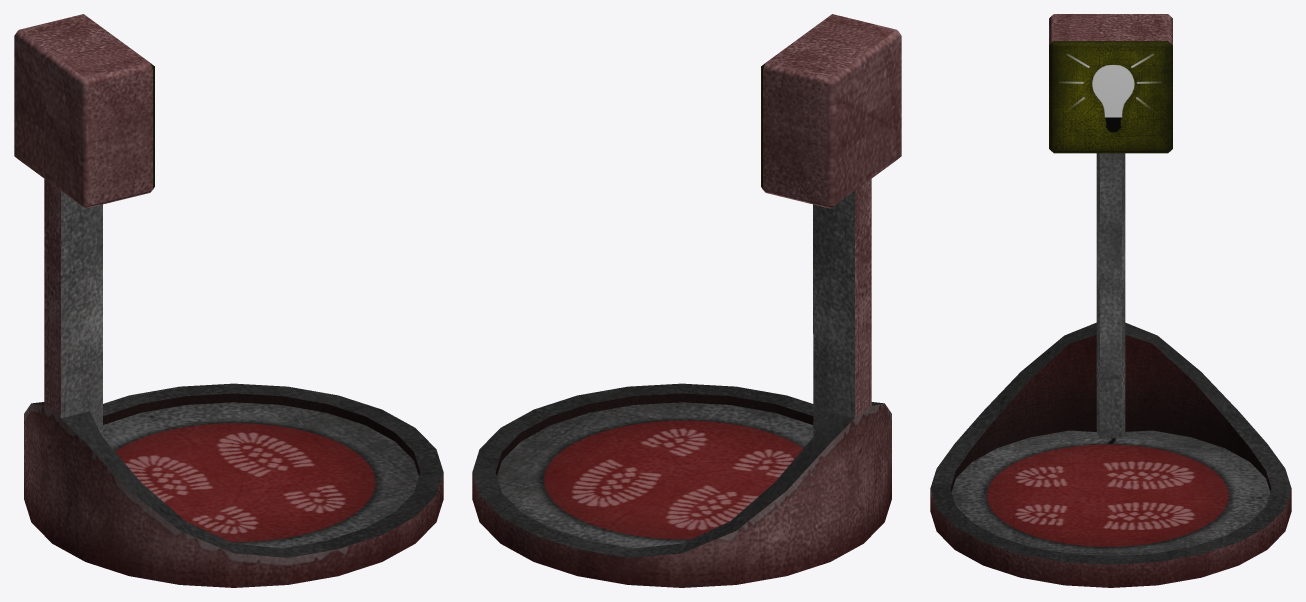
The model's file is SM_I_ChargePoint.fbx.
3 renders of one model, left to right at view 1: azimuth 30°, elevation 25°; view 2: azimuth 150°, elevation 25°; view 3: azimuth 270°, elevation 25°, orthographic. The views are drawn at different scales.
Parts seen in each view (by area): view 1: polySurface1; view 2: polySurface1; view 3: polySurface1.
Boxes of the visible parts, bbox=[...] form: polySurface1: bbox=[14, 14, 443, 587]; polySurface1: bbox=[472, 14, 901, 587]; polySurface1: bbox=[930, 14, 1291, 587].
Bounding box in the file's own units: 49.21 × 62.56 × 48.59.
